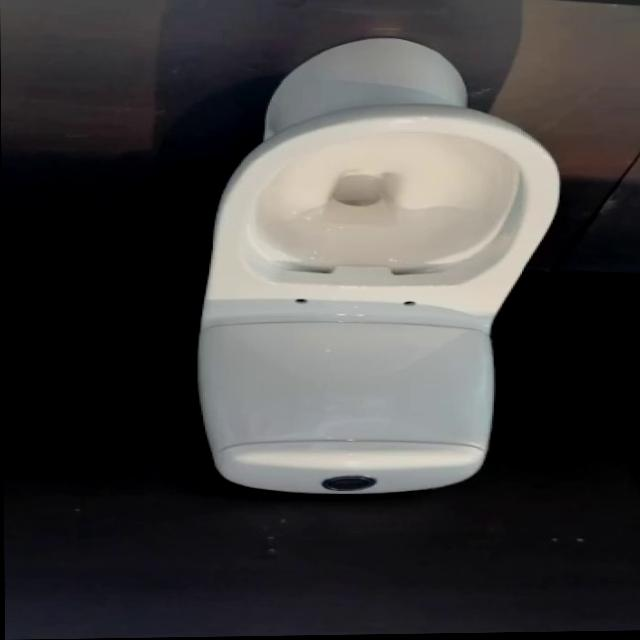toilet: (194, 37, 565, 499)
